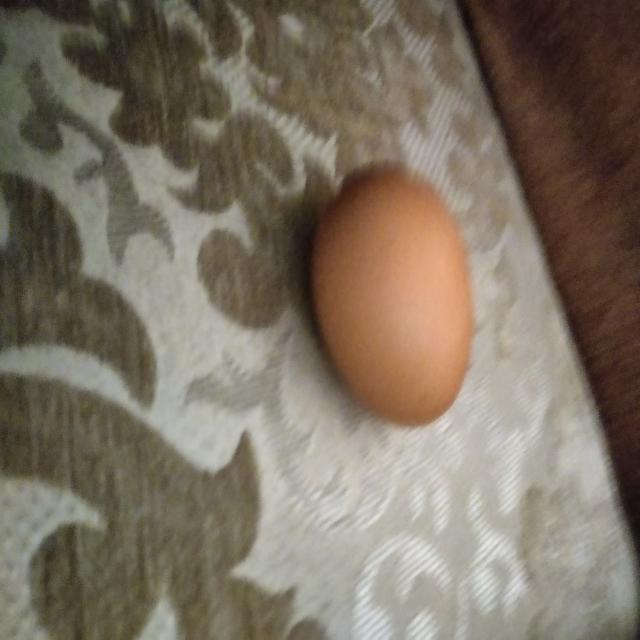Egg: (303, 165, 484, 422)
